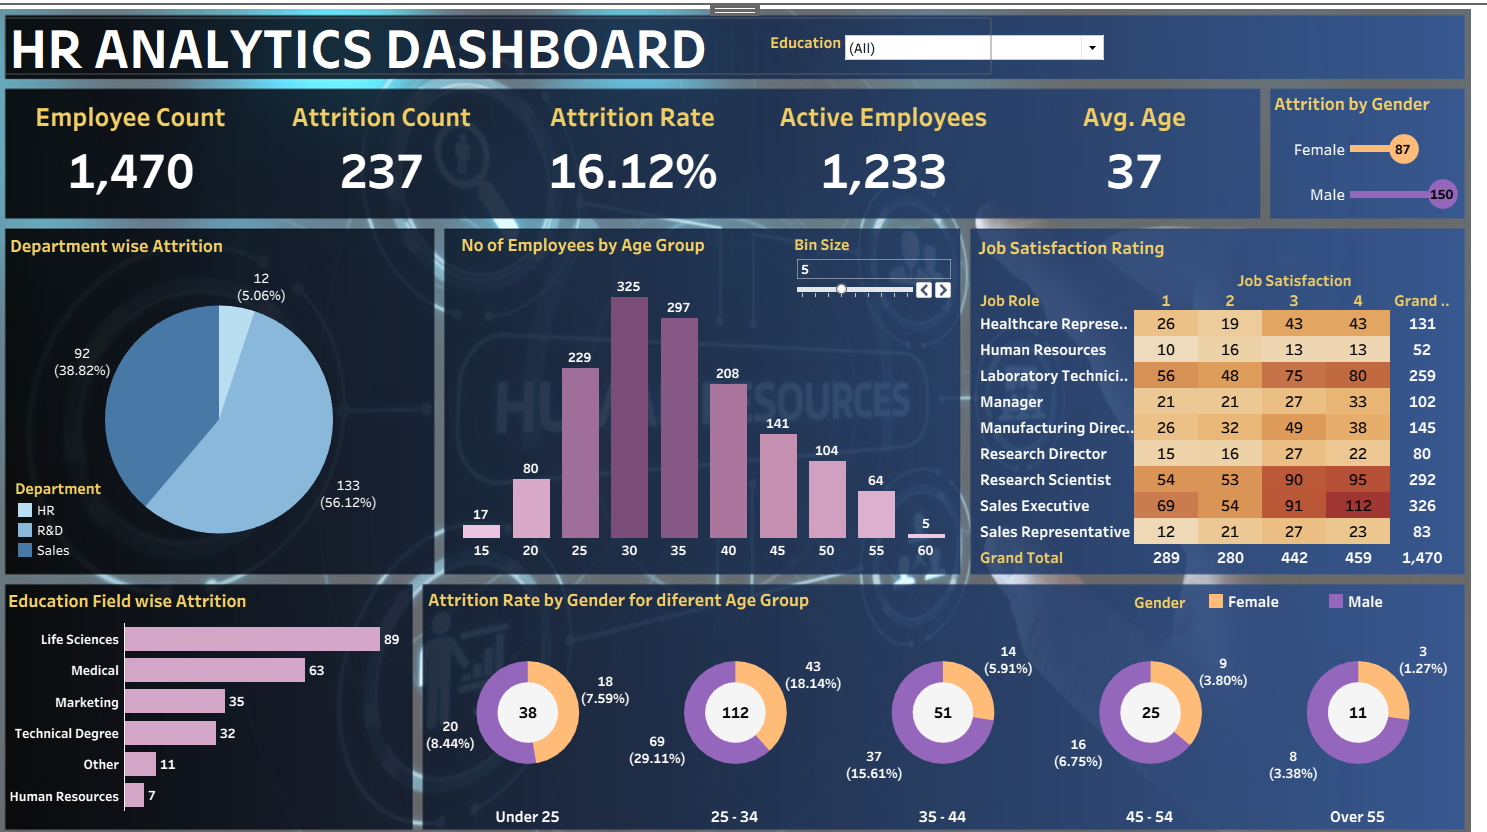

Layout of this report page (visuals, bound fields, positions):
{"tool":"tableau","page":{"name":"HR Analytics Dashboard","canvas":[1000,1000],"units":"permille","ordinal":0},"visuals":[{"type":"image","param":"C:/Users/win/Downloads/HR background.pptx.png","box":[5.1,9.4,989.9,981.2]},{"type":"text","box":[38.6,25.8,622.8,63.4]},{"type":"filter","title":"Department wise Attrition","param":"[federated.04omf2606x7zpz178ao6911jwqk3].[none:education:nk]","box":[522.1,41.1,213.3,47]},{"type":"worksheet","title":"Attrition by Gender","mark":"Automatic","rows":["gender"],"cols":["Calculation_0936027045666816","Calculation_0936027045666816"],"box":[838.6,106.8,122.2,151.4]},{"type":"worksheet","title":"KPI","mark":"Automatic","box":[38,120.9,794.3,123.2]},{"type":"worksheet","title":"No of Employees by Age Group","mark":"Automatic","rows":["employee_count"],"cols":["Age (bin)"],"box":[324.1,272.3,313.3,388.5]},{"type":"worksheet","title":"Department wise Attrition","mark":"Pie","box":[38.6,273.5,269.6,400.2]},{"type":"worksheet","title":"Job Satisfaction Rating","mark":"Square","rows":["job_role"],"cols":["job_satisfaction"],"box":[651.3,275.8,337.3,457.8]},{"type":"parameter","param":"[Parameters].[Parameter 1]","box":[537.3,278.2,101.3,83.3]},{"type":"legend","title":"Department wise Attrition","param":"[federated.04omf2606x7zpz178ao6911jwqk3].[none:department:nk]","box":[44.3,564.6,88.6,99.8]},{"type":"worksheet","title":"Attrition Rate by Gender for diferent Age Group","mark":"Pie","rows":["Calculation_0125137330327553","Calculation_0125137330327553"],"cols":["age_band"],"box":[303.2,689,657,286.4]},{"type":"worksheet","title":"Education Field wise Attrition","mark":"Automatic","rows":["education_field"],"cols":["Calculation_0936027045666816"],"box":[37.3,690.1,261.4,265.3]}]}

Visuals, with their boxes on the dashboard's canvas, which has no fixed pixel size, in thousandths of its width and height (x1, y1, x2, y2). These are canvas units, not pixel positions in the 1487x832 screenshot, which may show the page scaled, cropped or inside an application window:
image: {"left": 5, "top": 9, "right": 995, "bottom": 991}
text: {"left": 39, "top": 26, "right": 661, "bottom": 89}
"Department wise Attrition" filter: {"left": 522, "top": 41, "right": 735, "bottom": 88}
"Attrition by Gender" worksheet: {"left": 839, "top": 107, "right": 961, "bottom": 258}
"KPI" worksheet: {"left": 38, "top": 121, "right": 832, "bottom": 244}
"No of Employees by Age Group" worksheet: {"left": 324, "top": 272, "right": 637, "bottom": 661}
"Department wise Attrition" worksheet (Pie marks): {"left": 39, "top": 274, "right": 308, "bottom": 674}
"Job Satisfaction Rating" worksheet (Square marks): {"left": 651, "top": 276, "right": 989, "bottom": 734}
parameter: {"left": 537, "top": 278, "right": 639, "bottom": 362}
"Department wise Attrition" legend: {"left": 44, "top": 565, "right": 133, "bottom": 664}
"Attrition Rate by Gender for diferent Age Group" worksheet (Pie marks): {"left": 303, "top": 689, "right": 960, "bottom": 975}
"Education Field wise Attrition" worksheet: {"left": 37, "top": 690, "right": 299, "bottom": 955}
